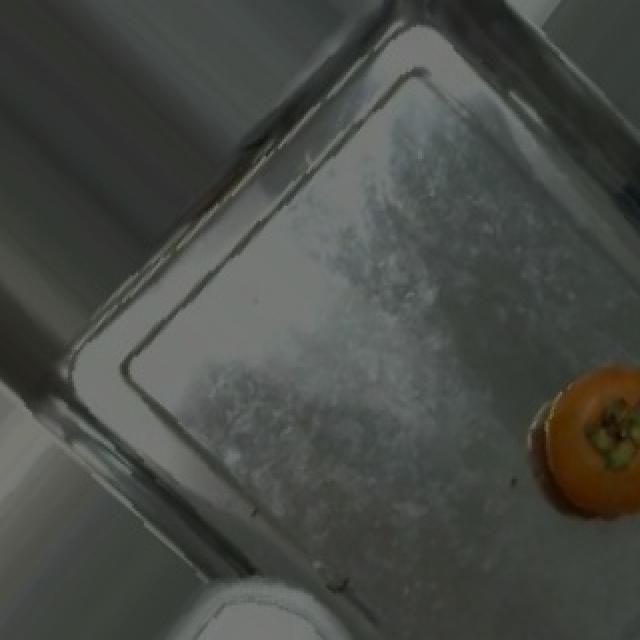Fruit: (516, 340, 640, 543), (160, 588, 366, 640)
